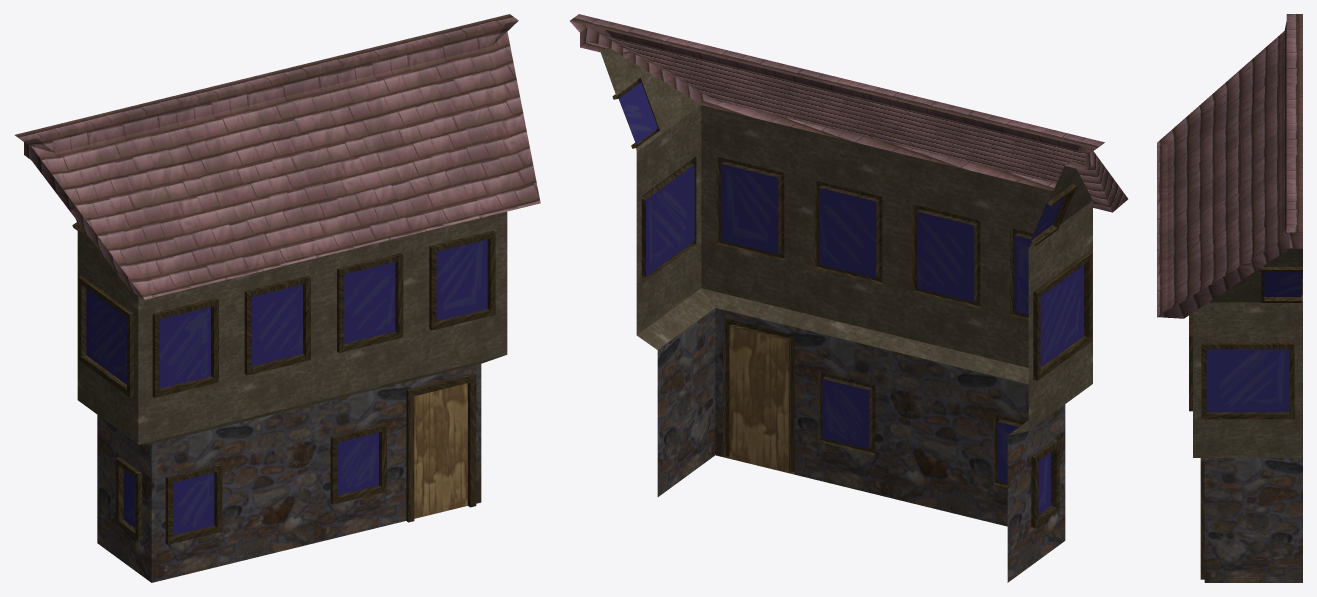
Rendered from House1Scaled.fbx.
The picture shows the model from 3 angles, left to right: view 1: azimuth 30°, elevation 25°; view 2: azimuth 150°, elevation 25°; view 3: azimuth 270°, elevation 25°; orthographic projection. The views are drawn at different scales.
Visible parts, largest first — view 1: Cube.001; view 2: Cube.001; view 3: Cube.001.
Boxes of the visible parts, x1,y1,x2,y2 form: Cube.001: (15,14,540,582); Cube.001: (570,14,1128,582); Cube.001: (1157,14,1302,582).
Bounding box in the file's own units: 2105 × 1739 × 594.
5 materials, 5 textured.
